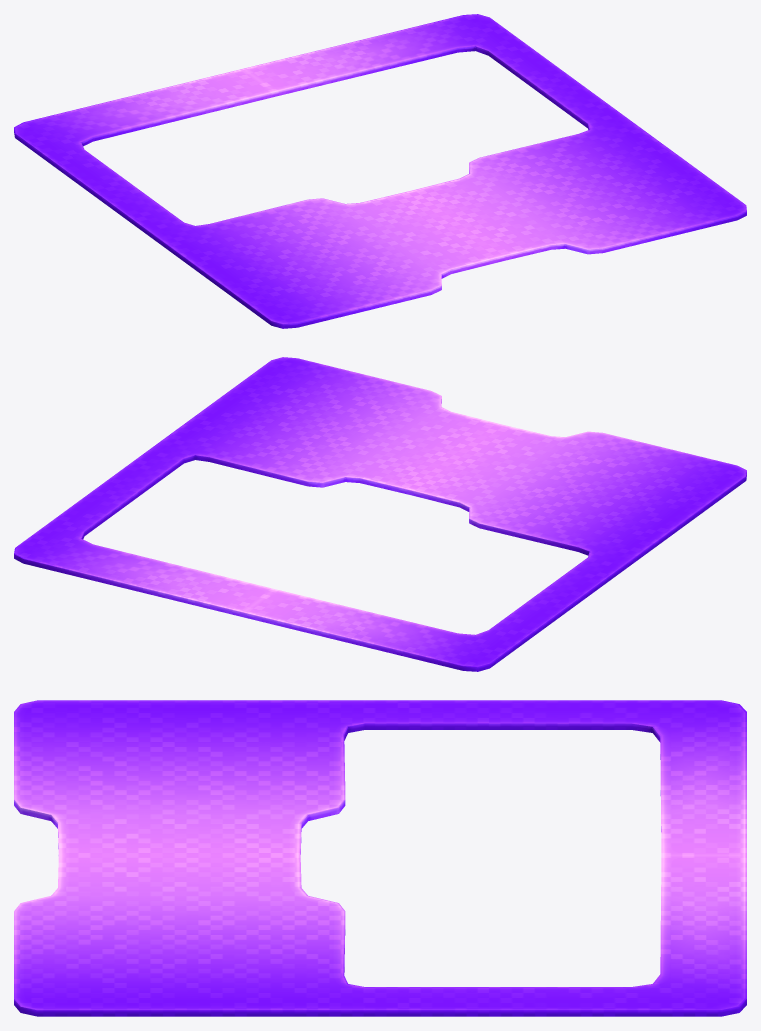
File: obj_floor.gltf
3 renders of one model, top to bottom at view 1: azimuth 30°, elevation 25°; view 2: azimuth 150°, elevation 25°; view 3: azimuth 270°, elevation 25°, orthographic. The views are drawn at different scales.
Parts seen in each view (by area): view 1: obj_floor; view 2: obj_floor; view 3: obj_floor.
Part boxes in pixels (x1,y1,x2,y2): obj_floor: (14, 14, 746, 328); obj_floor: (14, 357, 746, 671); obj_floor: (14, 700, 746, 1016).
Size of what is drawn, in the model's own units: 16 by 0.15 by 16.
Materials: 1 (1 with a texture image).
